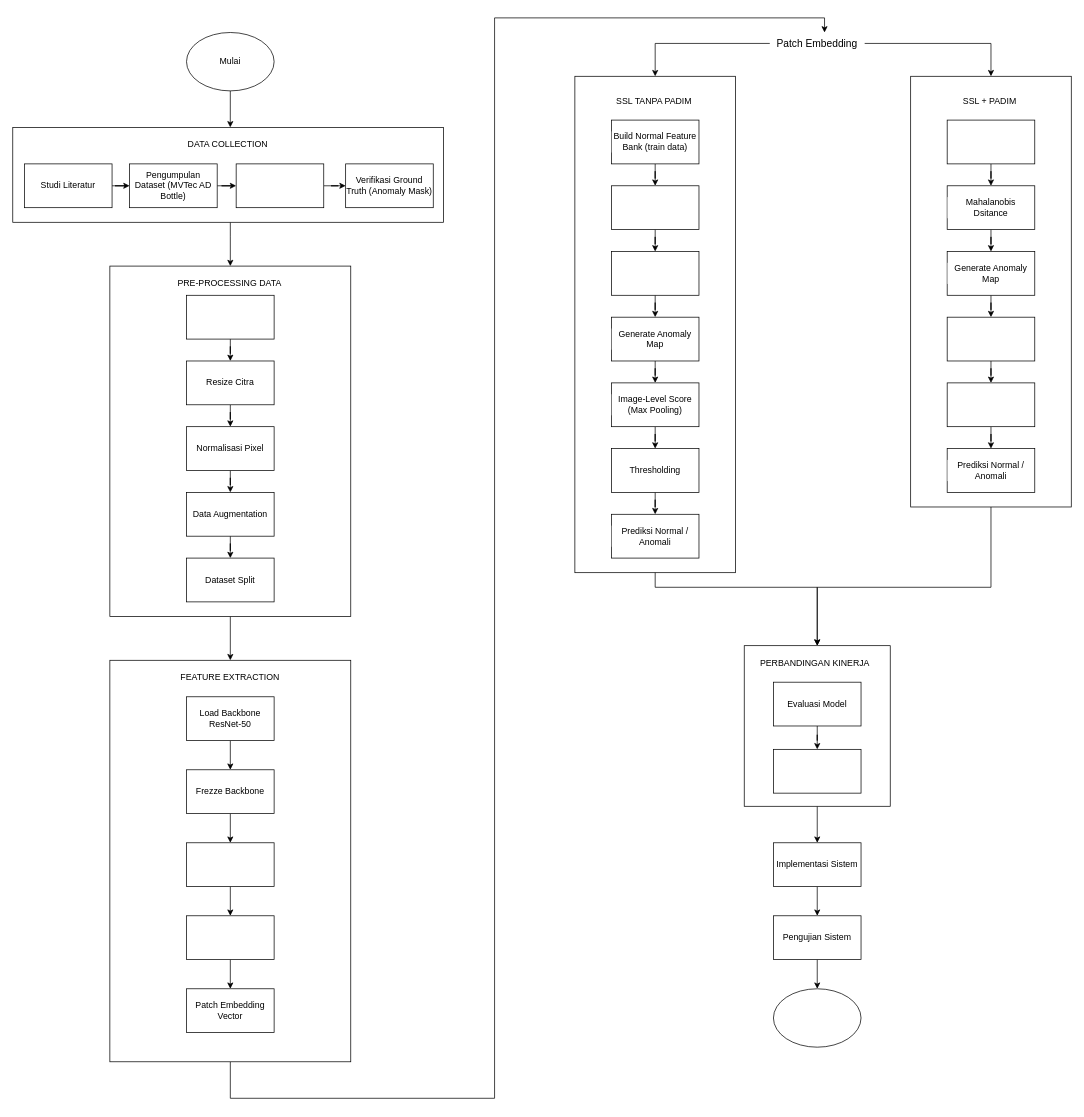
This 1084x1117 diagram has some shape labels left out. The centre of each missing label's shape, as x and y in pixels:
"Analisis Perbandingan" goes at point 817,771.
"Ekstraksi Feature Map" goes at point 230,864.
"Image-Level Score" goes at point 990,338.
"KNN Distance (Euclidean)" goes at point 655,207.
"Load Dataset" goes at point 230,317.
"Modelling Distribusi Normal" goes at point 990,141.
"Patch Anomaly Score" goes at point 655,273.
"Patch Extraction" goes at point 230,937.
"Seleksi Dataset (Normal & Anomali)" goes at point 279,185.
"Selesai" goes at point 817,1017.
"Tresholding" goes at point 990,404.
